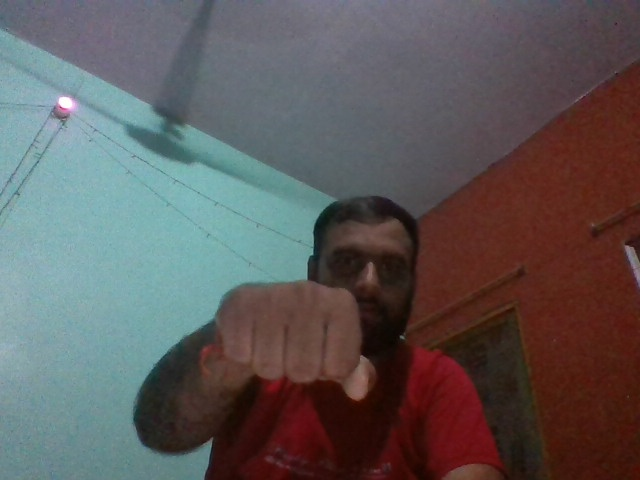yes: (217, 281, 378, 402)
